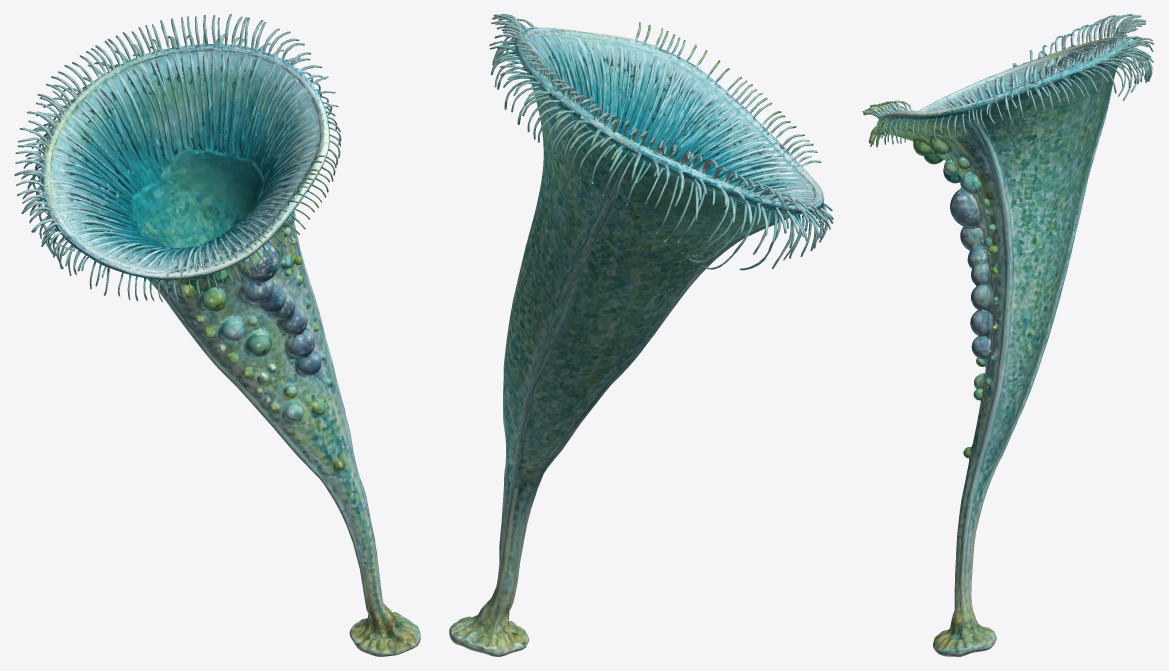
Rendered from stentor.glb.
3 views of the same model, side by side, from view 1: azimuth 30°, elevation 25°; view 2: azimuth 150°, elevation 25°; view 3: azimuth 270°, elevation 25° (orthographic). The views are drawn at different scales.
Parts seen in each view (by area): view 1: tripo_node_d1d8c093-f8c6-493d-b1a5-b8efaf651d97; view 2: tripo_node_d1d8c093-f8c6-493d-b1a5-b8efaf651d97; view 3: tripo_node_d1d8c093-f8c6-493d-b1a5-b8efaf651d97.
Boxes of the visible parts, box(x1,y1,x2,y2) form: tripo_node_d1d8c093-f8c6-493d-b1a5-b8efaf651d97: box(14, 14, 420, 656); tripo_node_d1d8c093-f8c6-493d-b1a5-b8efaf651d97: box(449, 14, 833, 656); tripo_node_d1d8c093-f8c6-493d-b1a5-b8efaf651d97: box(862, 14, 1154, 656).
Size of the model in its own units: 0.598 by 0.9814 by 0.4604.
1 material, 1 textured.
